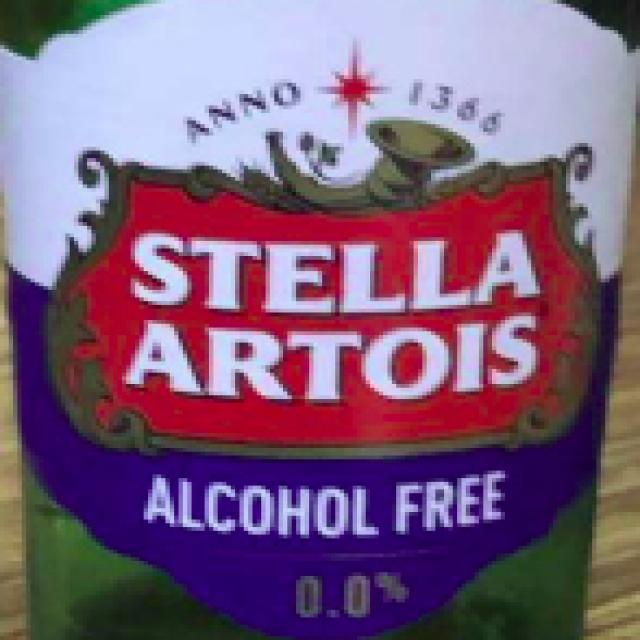Stella Artois: (4, 4, 640, 640)
